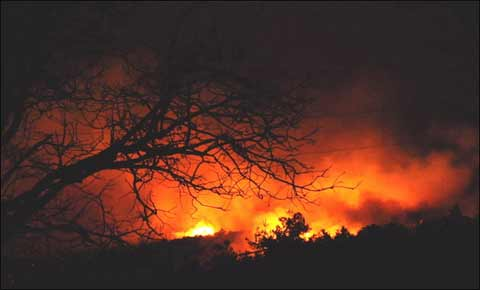fire: (293, 171, 370, 234), (179, 193, 280, 240)
smoke: (180, 10, 476, 139)
